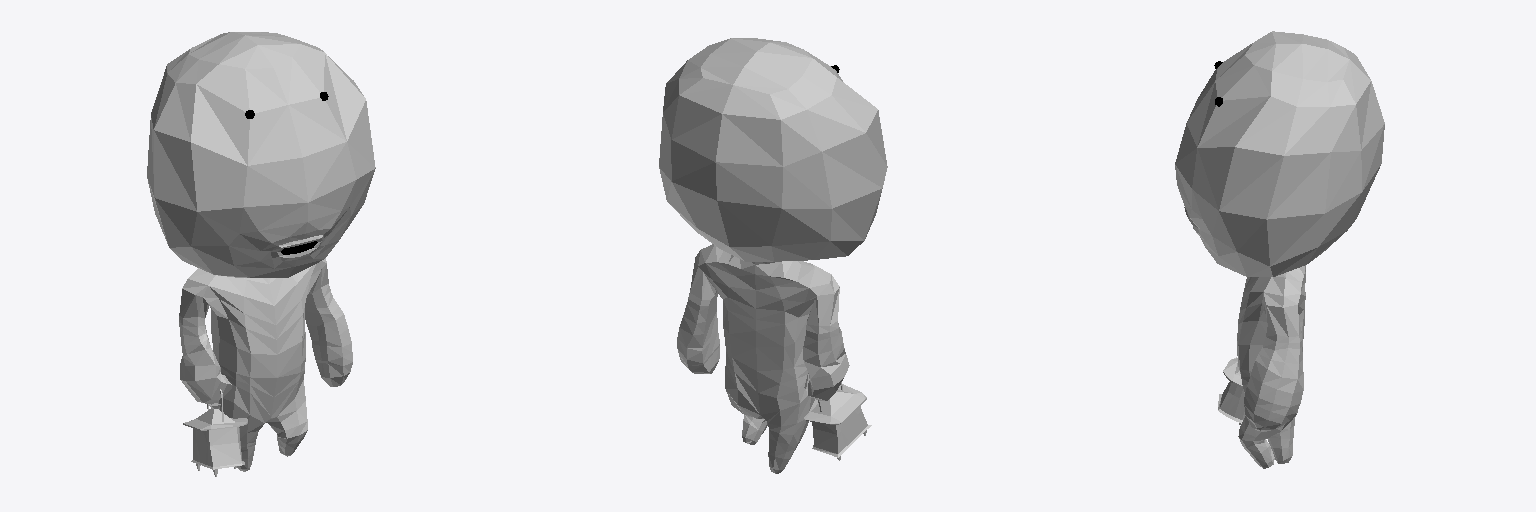
Rendered from Hero.obj.
The picture shows the model from 3 angles: view 1: azimuth 30°, elevation 25°; view 2: azimuth 150°, elevation 25°; view 3: azimuth 270°, elevation 25°; orthographic projection.
Visible parts, largest first — view 1: BaseMesh_Cube.000, Mesh_Lantern_Cube.001; view 2: BaseMesh_Cube.000, Mesh_Lantern_Cube.001; view 3: BaseMesh_Cube.000, Mesh_Lantern_Cube.001.
Part boxes in pixels (x1,y1,x2,y2): BaseMesh_Cube.000: (147,32,375,471); Mesh_Lantern_Cube.001: (183,389,247,476); BaseMesh_Cube.000: (659,38,887,473); Mesh_Lantern_Cube.001: (804,382,871,460); BaseMesh_Cube.000: (1175,31,1384,468); Mesh_Lantern_Cube.001: (1218,357,1245,424).
Bounding box in the file's own units: 53.41 × 100 × 44.94.